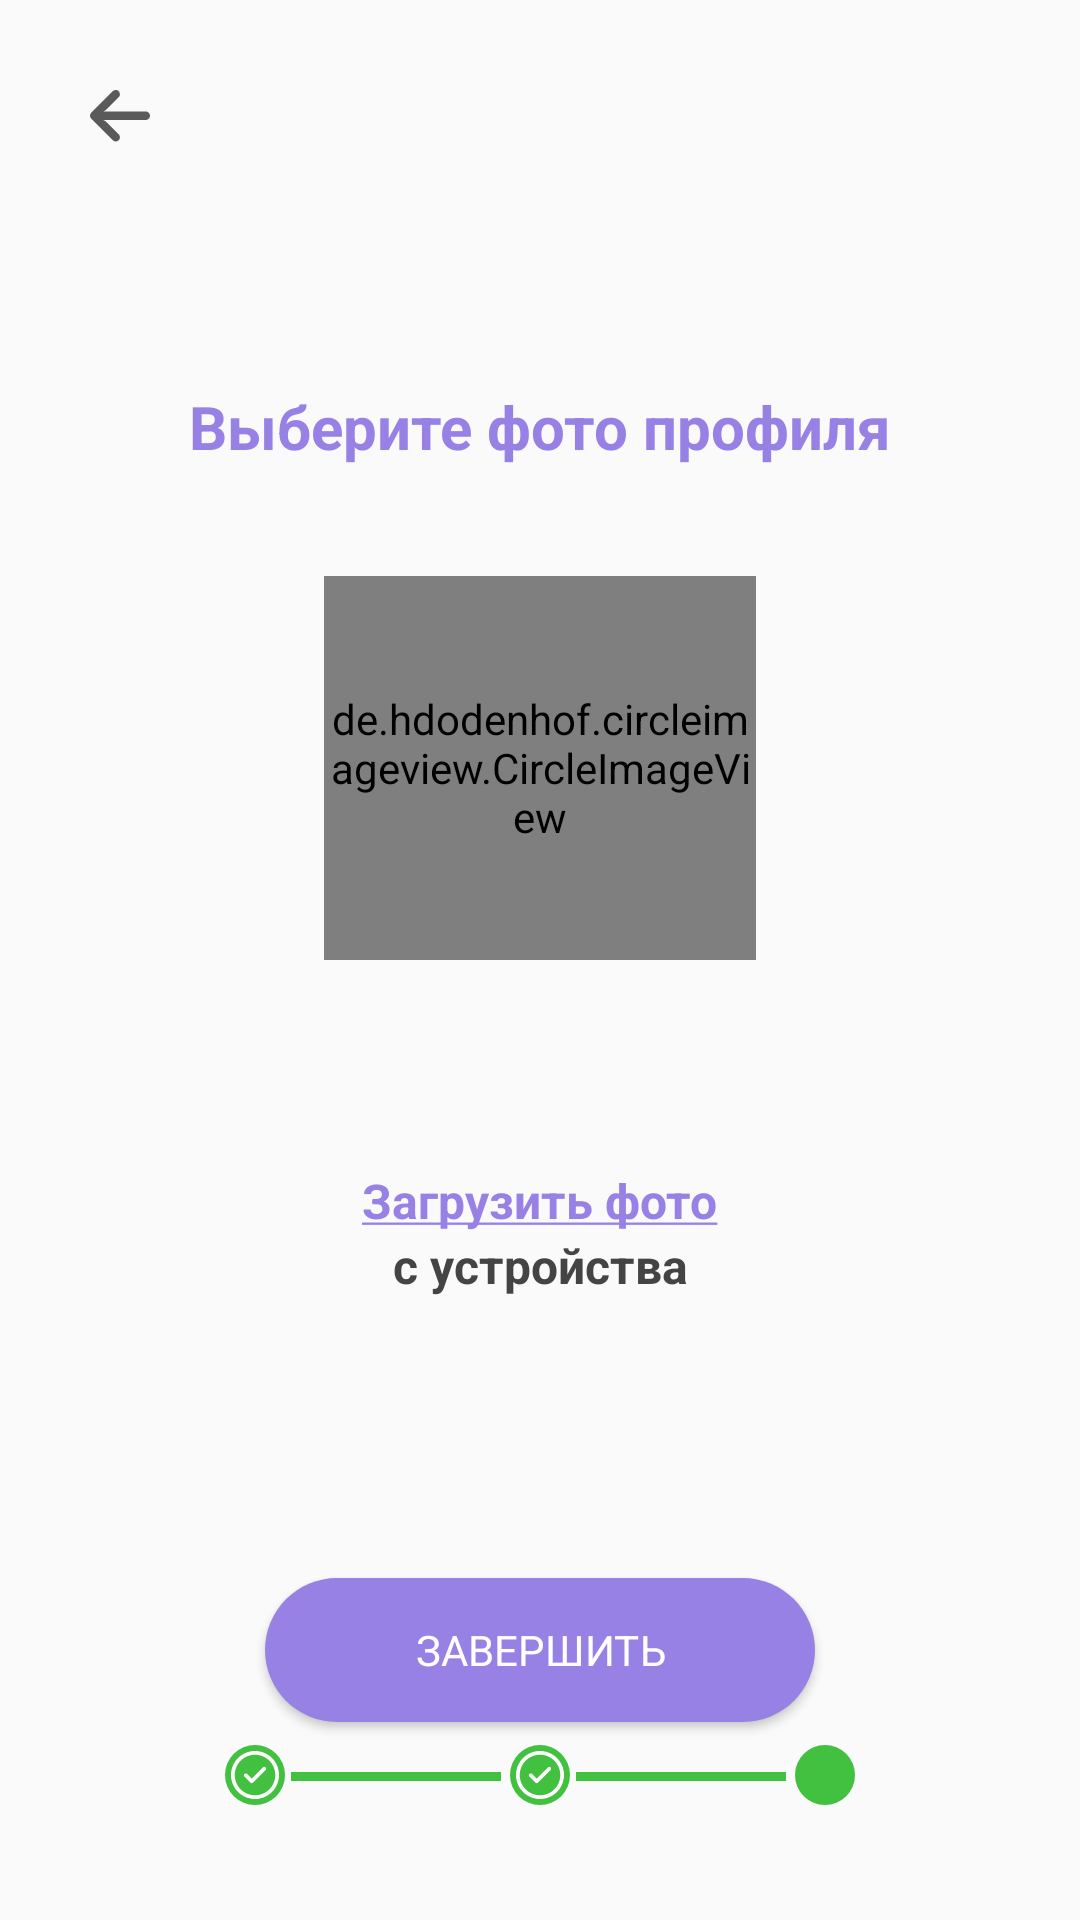

Icon click points for this 1080px x 1920px phone screenshot, format (x,y):
back: (120,116)
